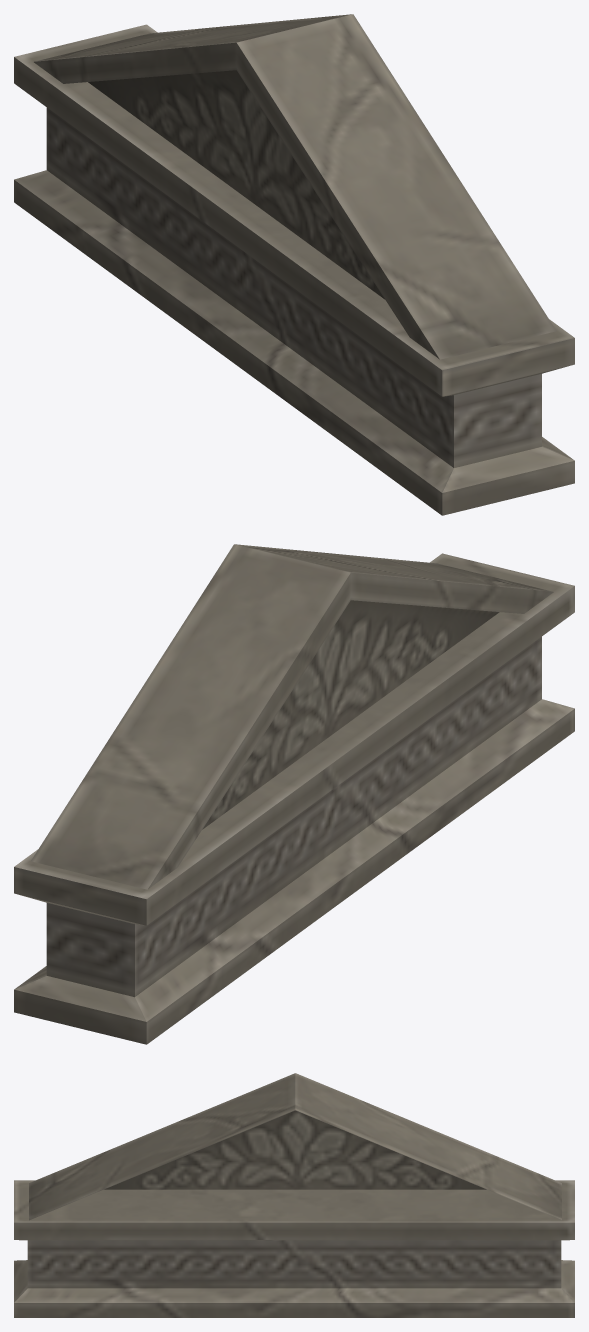
File: ruin_temple_2.FBX
3 renders of one model, top to bottom at view 1: azimuth 30°, elevation 25°; view 2: azimuth 150°, elevation 25°; view 3: azimuth 270°, elevation 25°, orthographic. The views are drawn at different scales.
Parts seen in each view (by area): view 1: Object021; view 2: Object021; view 3: Object021.
Part boxes in pixels (left/top/right/bottom): Object021: left=14, top=14, right=574, bottom=515; Object021: left=14, top=544, right=574, bottom=1044; Object021: left=14, top=1073, right=574, bottom=1317.
Bounding box in the file's own units: 0.8858 × 2 × 4.95.
